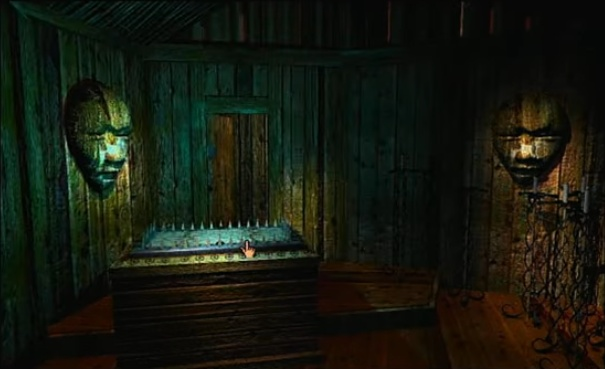Pointer: (237, 237, 260, 261)
